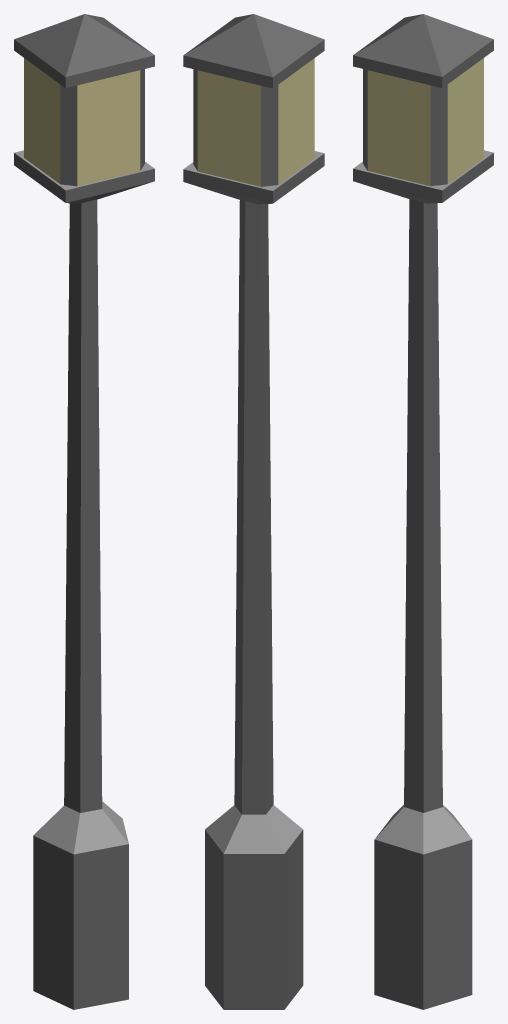
Rendered from pillar_002.fbx.
The picture shows the model from 3 angles, left to right: view 1: azimuth 30°, elevation 25°; view 2: azimuth 150°, elevation 25°; view 3: azimuth 330°, elevation 25°; orthographic projection.
Visible parts, largest first — view 1: pillar_002; view 2: pillar_002; view 3: pillar_002.
Boxes of the visible parts, x1,y1,x2,y2 form: pillar_002: (14,14,154,1009); pillar_002: (183,14,324,1009); pillar_002: (353,14,493,1009).
Bounding box in the file's own units: 32.29 × 337 × 32.29.
